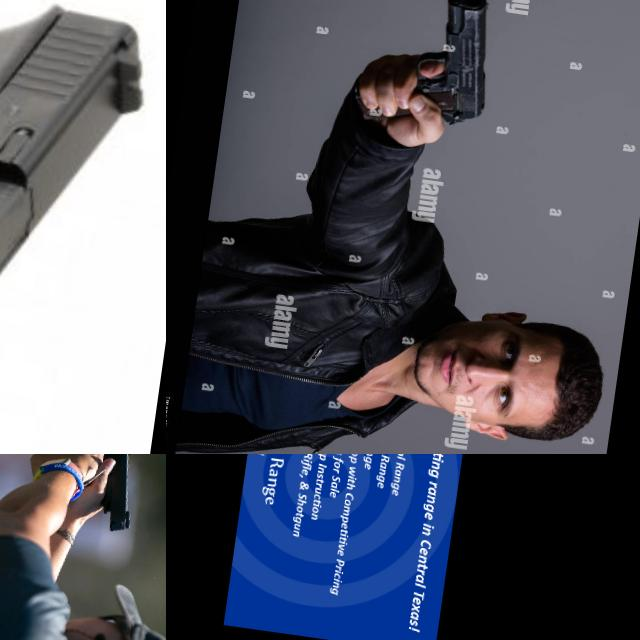handgun: (0, 0, 166, 454), (279, 454, 502, 572), (404, 0, 503, 135), (86, 454, 145, 535)
